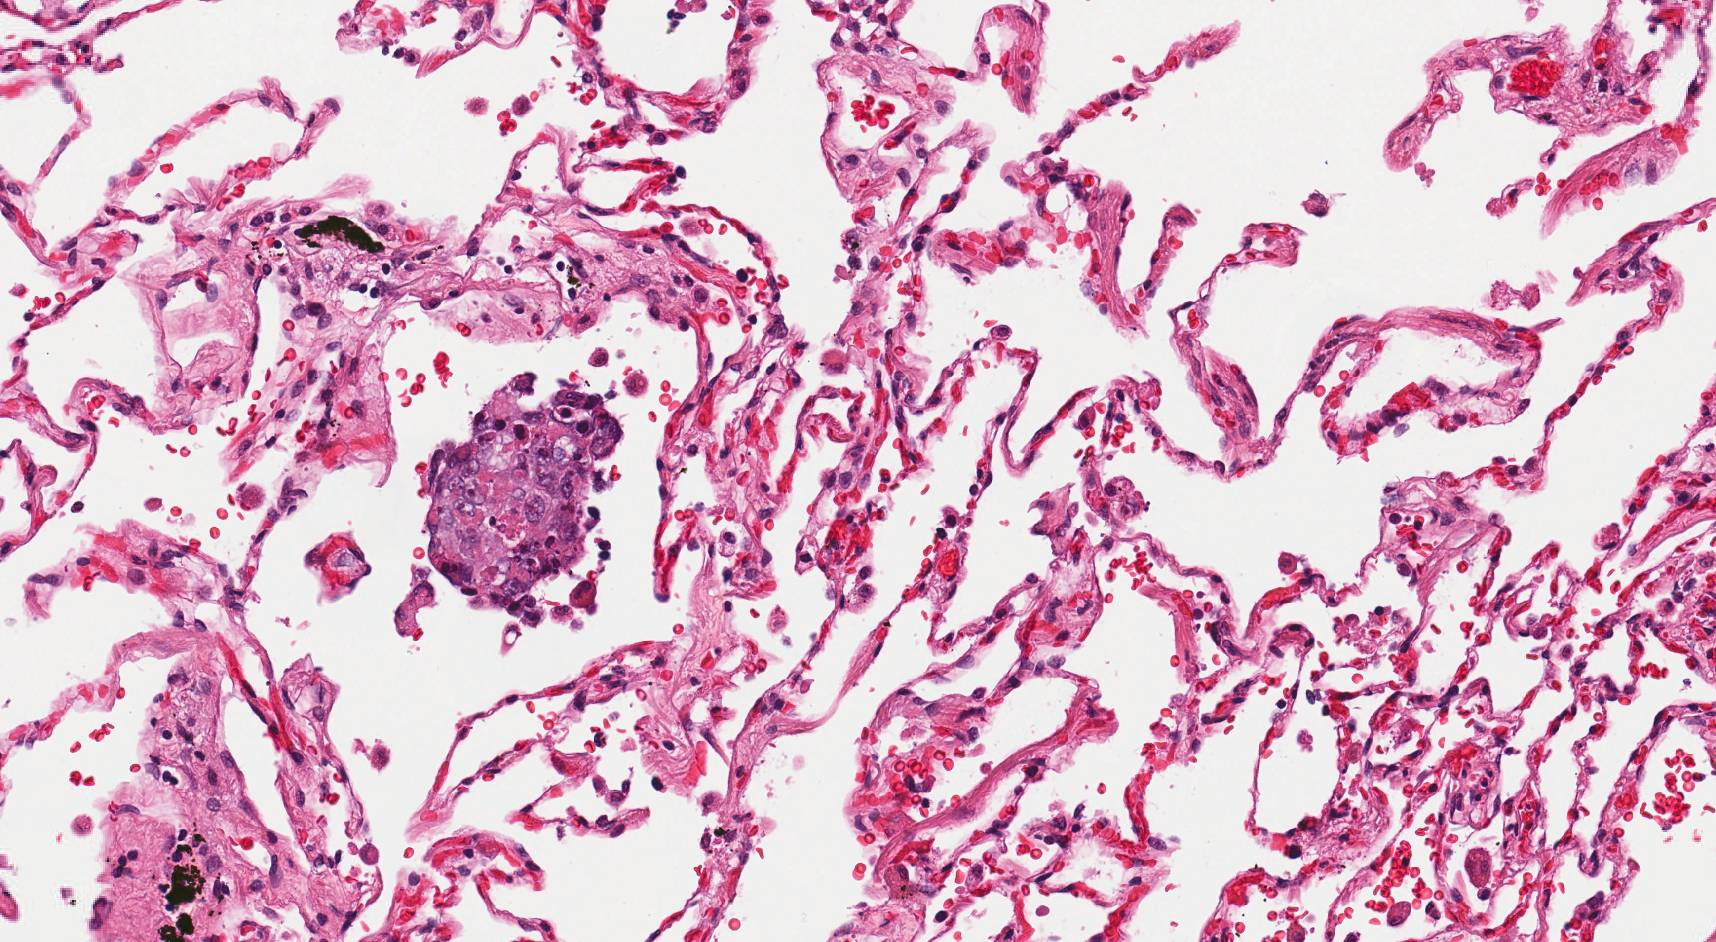stas: (422, 374, 625, 629)
